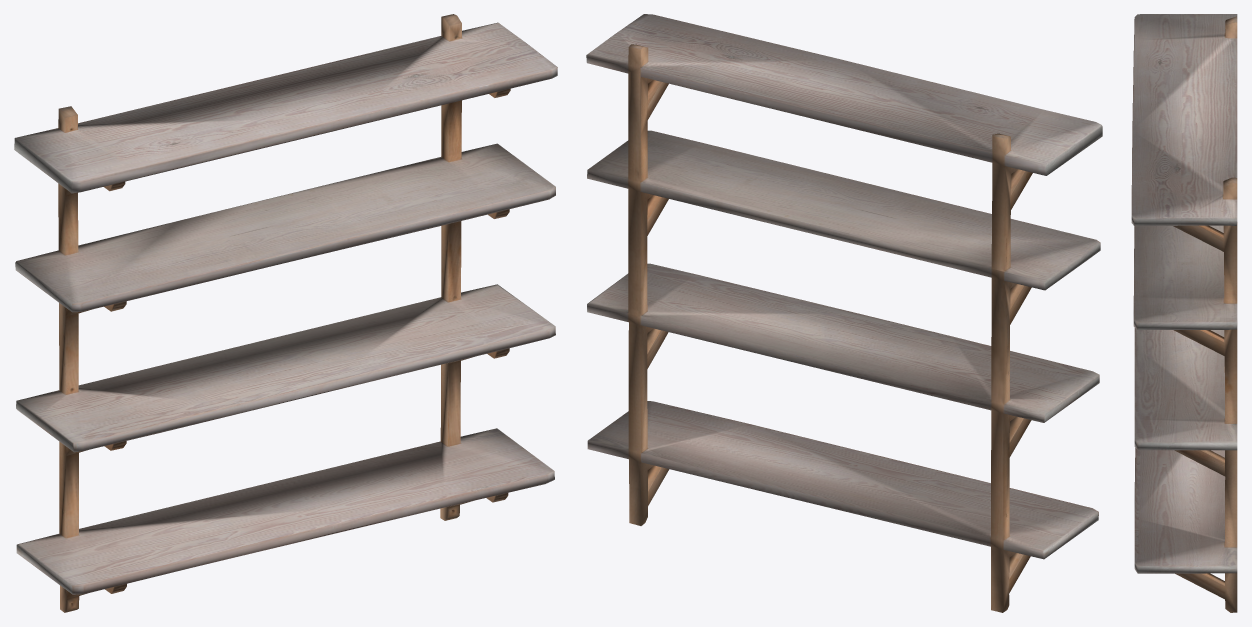
File: Wooden_Bookshelf_vmhndfu_Low.gltf
The picture shows the model from 3 angles, left to right: view 1: azimuth 30°, elevation 25°; view 2: azimuth 150°, elevation 25°; view 3: azimuth 270°, elevation 25°; orthographic projection. The views are drawn at different scales.
Visible parts, largest first — view 1: vmhndfu_LOD0_TIER3_000; view 2: vmhndfu_LOD0_TIER3_000; view 3: vmhndfu_LOD0_TIER3_000.
Part boxes in pixels (bbox=[...]): vmhndfu_LOD0_TIER3_000: bbox=[14, 14, 557, 612]; vmhndfu_LOD0_TIER3_000: bbox=[586, 14, 1102, 612]; vmhndfu_LOD0_TIER3_000: bbox=[1131, 14, 1237, 612].
Bounding box in the file's own units: 1.1 × 1.09 × 0.2418.
Materials: 1 (1 with a texture image).
